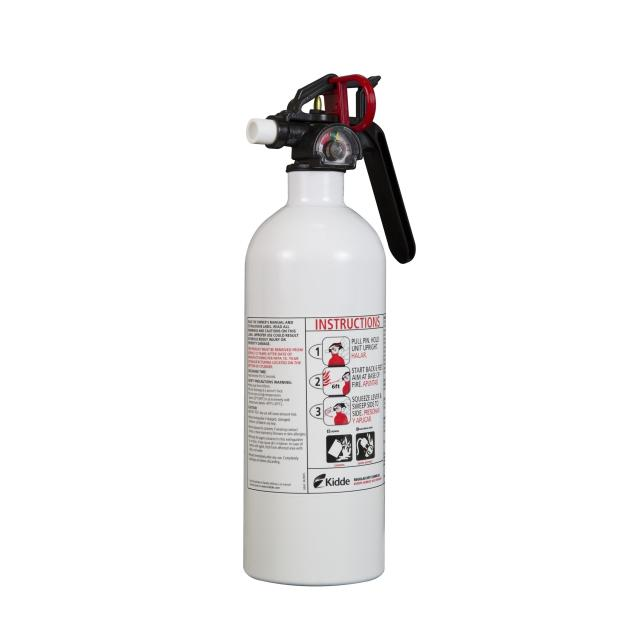fire_extinguisher: (234, 67, 417, 592)
